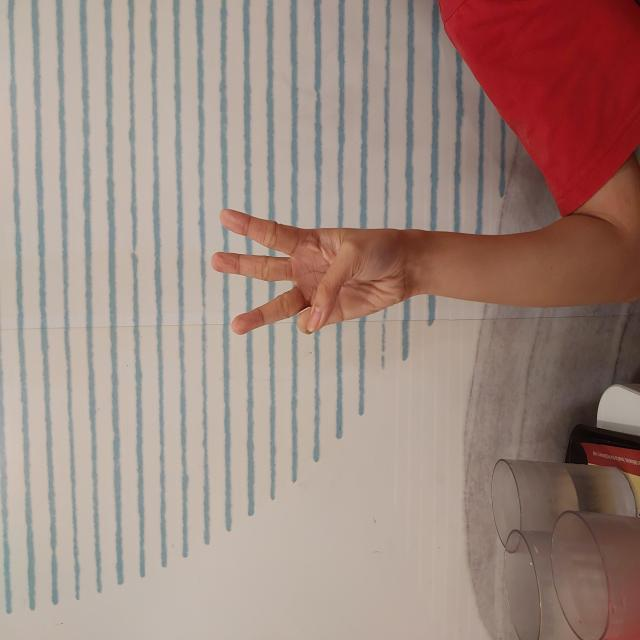W: (304, 210, 434, 410)
